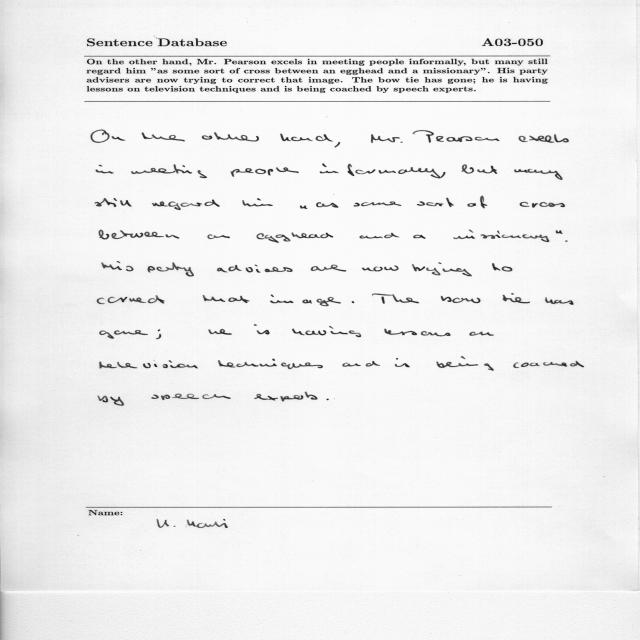word: (320, 164, 445, 179), (454, 230, 550, 242), (131, 164, 207, 178), (218, 359, 323, 369), (100, 360, 198, 369), (257, 232, 334, 243), (280, 134, 340, 148), (412, 263, 472, 277), (436, 357, 494, 371), (270, 295, 341, 306), (292, 326, 361, 337), (152, 199, 220, 210), (99, 230, 179, 239), (230, 167, 299, 177), (148, 262, 194, 277), (97, 295, 165, 304), (217, 265, 292, 273), (254, 392, 318, 401), (202, 132, 259, 142), (514, 169, 563, 180), (384, 329, 451, 337), (372, 293, 419, 304), (513, 361, 584, 368), (151, 394, 231, 400), (91, 130, 126, 143), (519, 134, 569, 143), (400, 130, 434, 143), (100, 330, 148, 339), (141, 133, 185, 142), (436, 136, 500, 142), (203, 295, 249, 303), (95, 198, 132, 207), (417, 198, 454, 207), (102, 262, 134, 272), (98, 395, 124, 406), (441, 296, 481, 303), (242, 198, 273, 207), (520, 202, 565, 208), (503, 294, 530, 304), (371, 134, 400, 143), (311, 265, 346, 272), (354, 202, 402, 207), (468, 196, 488, 208), (360, 233, 400, 239), (342, 361, 380, 367), (545, 297, 573, 305), (362, 266, 399, 272), (492, 263, 512, 272), (96, 165, 114, 174), (478, 166, 498, 174), (254, 325, 269, 335), (208, 329, 232, 335), (395, 358, 410, 367), (316, 202, 338, 208), (207, 234, 230, 239), (462, 165, 474, 174), (469, 332, 494, 336), (413, 235, 426, 239), (156, 330, 161, 340), (300, 205, 307, 209), (556, 230, 562, 234), (565, 240, 568, 242), (352, 301, 355, 303), (326, 399, 329, 400)
